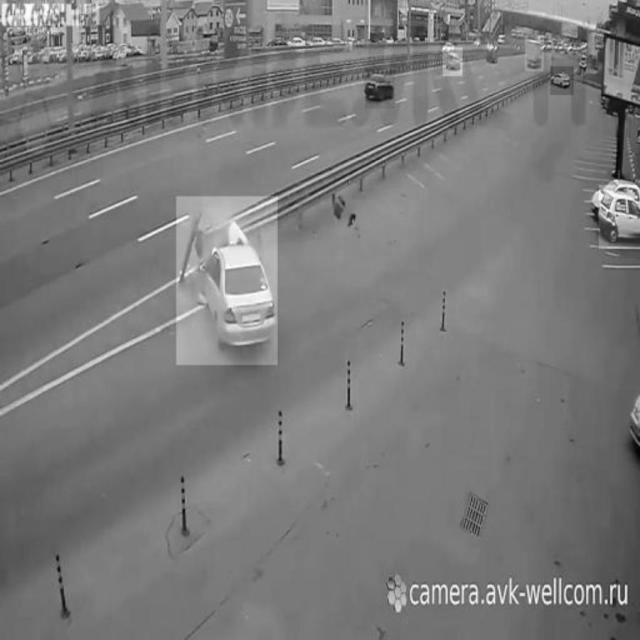accident: (177, 197, 278, 365)
vehicle: (599, 185, 640, 249), (364, 69, 394, 109), (550, 66, 574, 94), (525, 36, 543, 72), (443, 48, 463, 76)
